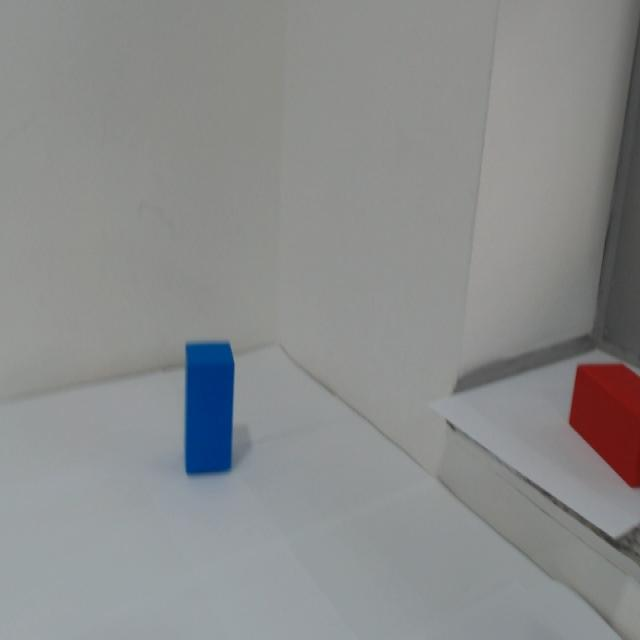cube: (169, 327, 248, 502)
